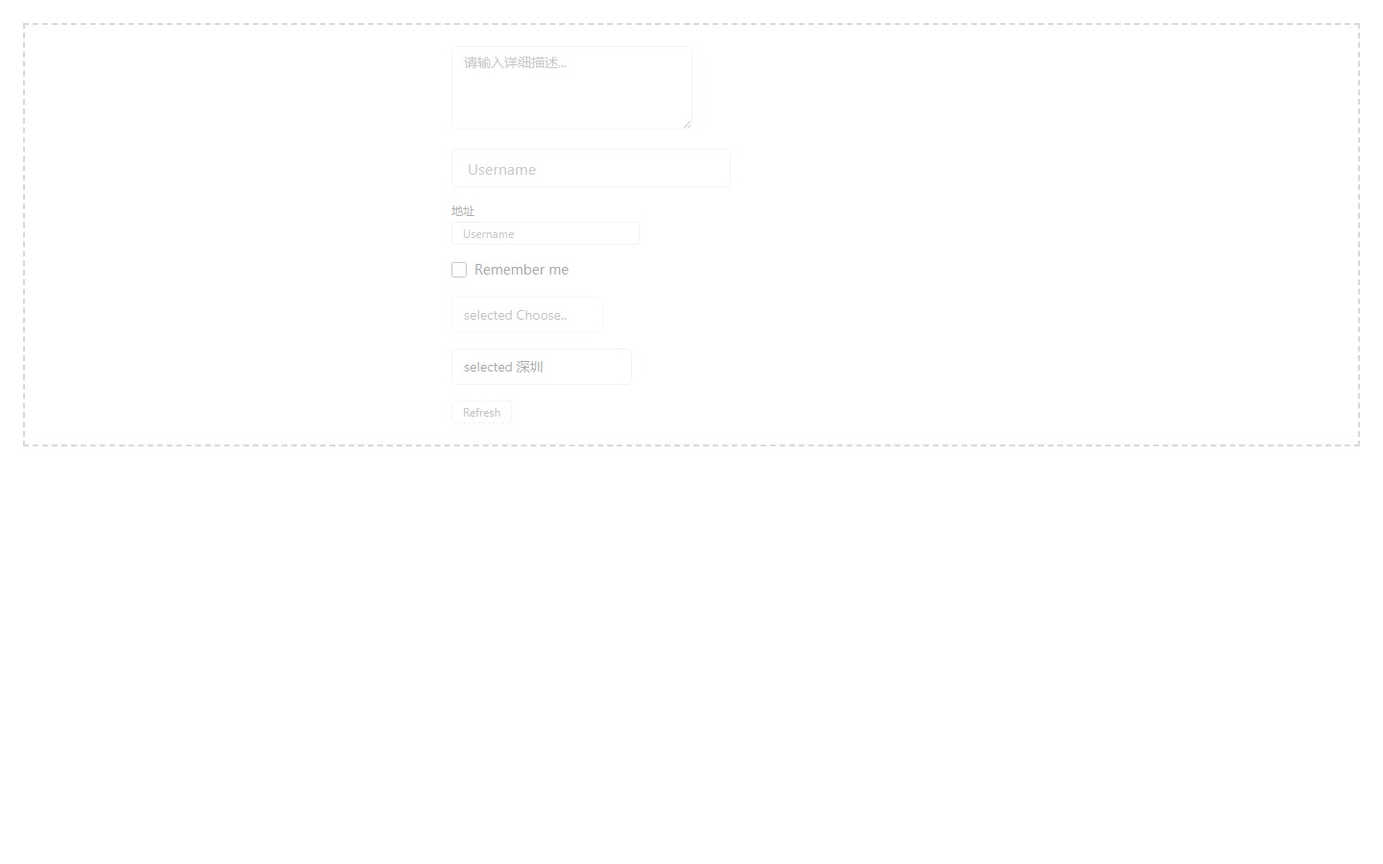button: (451, 400, 512, 423)
checkbox: (451, 262, 467, 277)
icon: (474, 260, 569, 278)
input: (451, 149, 731, 187), (451, 222, 640, 245)
modal: (23, 23, 1360, 446)
radio: (451, 260, 569, 278)
select: (451, 348, 632, 384), (451, 296, 603, 333)
textarea: (451, 46, 692, 130)
